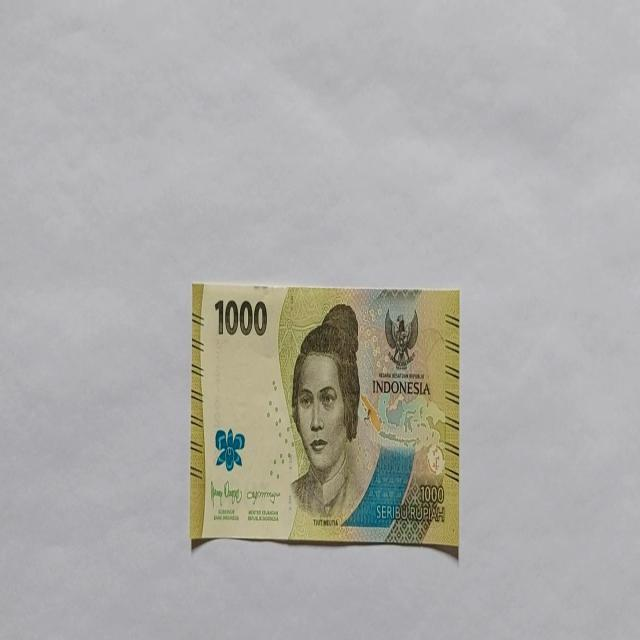seribu rupiah kertas: (188, 281, 460, 551)
